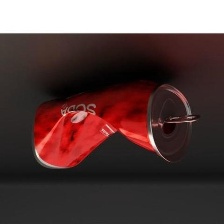can: (26, 72, 202, 172)
